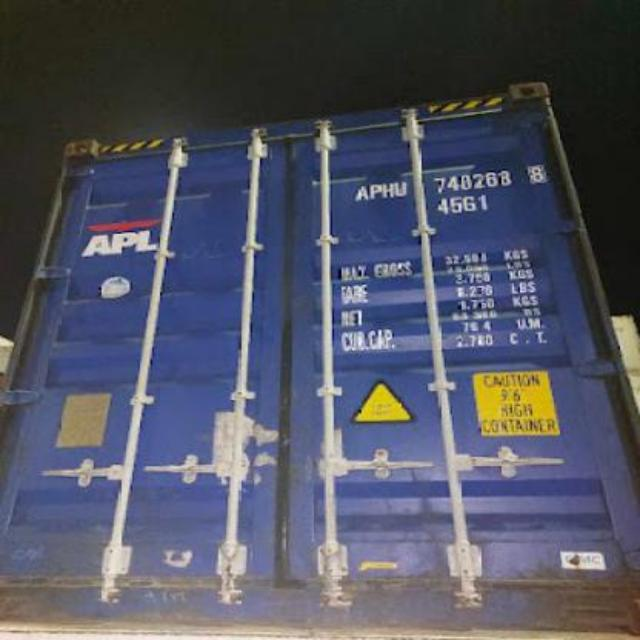0: (460, 174, 472, 190)
2: (472, 174, 488, 188)
4: (448, 176, 460, 188)
6: (484, 172, 500, 186)
7: (432, 177, 448, 193)
8: (498, 170, 512, 186), (532, 168, 544, 182)
A: (354, 183, 370, 201)
H: (384, 183, 394, 199)
P: (370, 183, 382, 199)
U: (394, 181, 410, 197)
